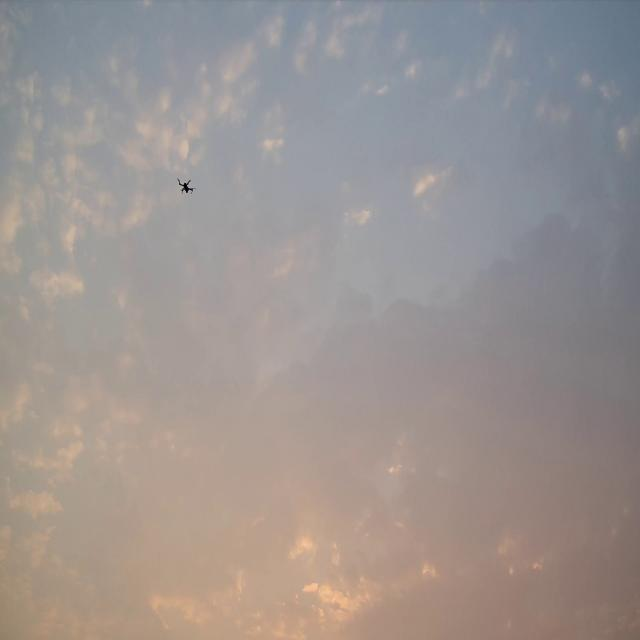UAV: (177, 178, 196, 194)
